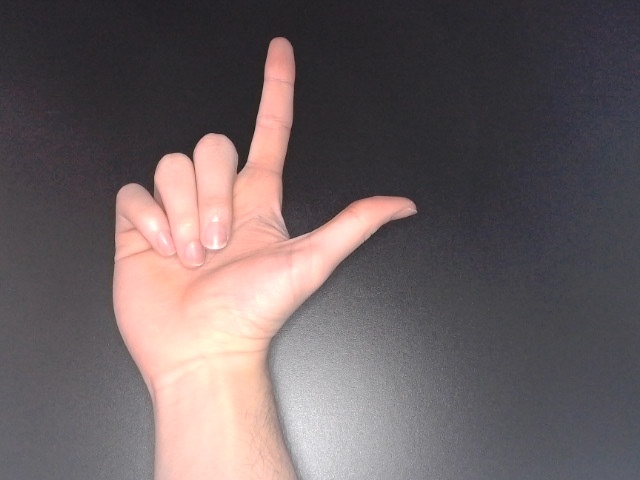l: (104, 33, 423, 401)
